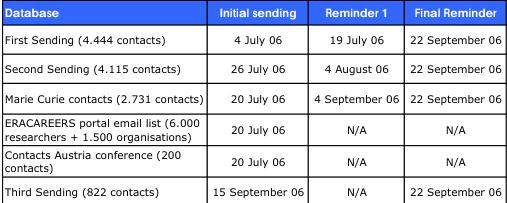table: (3, 3, 500, 197)
table column: (3, 3, 207, 197), (207, 3, 308, 197), (403, 3, 500, 197), (308, 3, 403, 197)
table column header: (3, 3, 500, 25)
table row: (3, 109, 500, 144), (3, 144, 500, 178), (3, 53, 500, 82), (3, 25, 500, 53), (3, 82, 500, 109), (3, 3, 500, 25), (3, 178, 500, 197)
